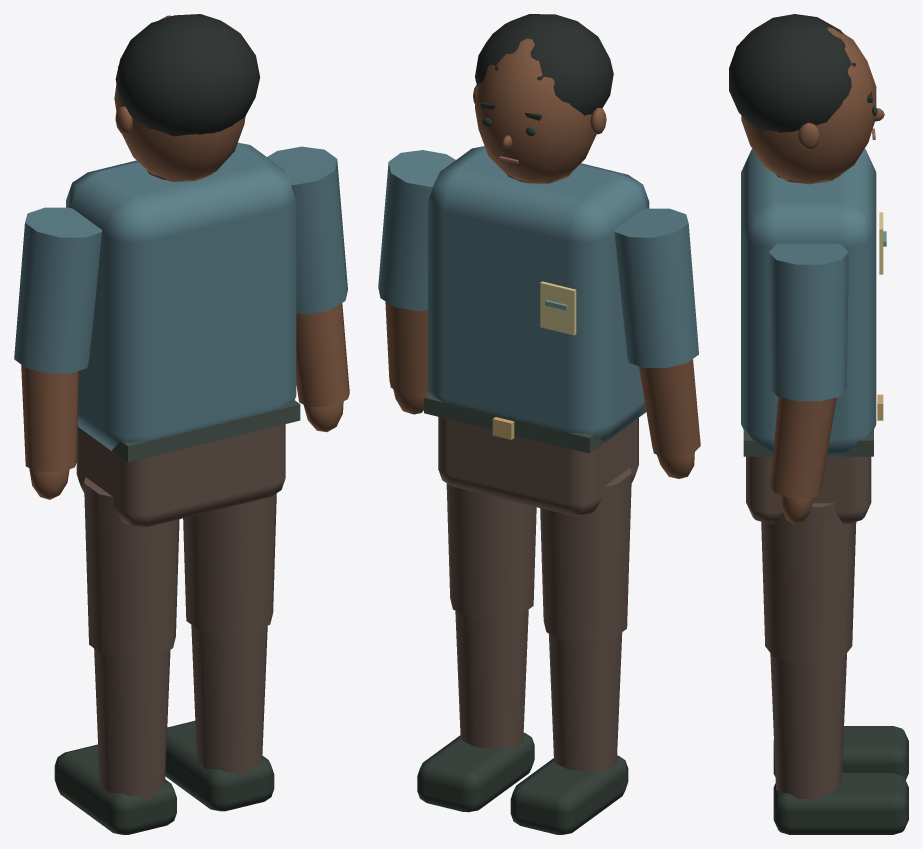
Rendered from scout-15.glb.
The picture shows the model from 3 angles, left to right: view 1: azimuth 30°, elevation 25°; view 2: azimuth 150°, elevation 25°; view 3: azimuth 270°, elevation 25°; orthographic projection. The views are drawn at different scales.
Visible parts, largest first — view 1: Scout character 15, left-upper-arm, right-upper-arm; view 2: Scout character 15, left-upper-arm, right-upper-arm; view 3: Scout character 15, right-upper-arm.
Part boxes in pixels (x1=…): Scout character 15: x1=54, y1=14, x2=300, y2=834; left-upper-arm: x1=14, y1=207, x2=102, y2=499; right-upper-arm: x1=267, y1=146, x2=349, y2=432; Scout character 15: x1=417, y1=14, x2=649, y2=834; left-upper-arm: x1=614, y1=208, x2=700, y2=478; right-upper-arm: x1=378, y1=150, x2=455, y2=414; Scout character 15: x1=729, y1=14, x2=908, y2=834; right-upper-arm: x1=768, y1=243, x2=848, y2=523.
Bounding box in the file's own units: 0.7284 × 1.72 × 0.359.
